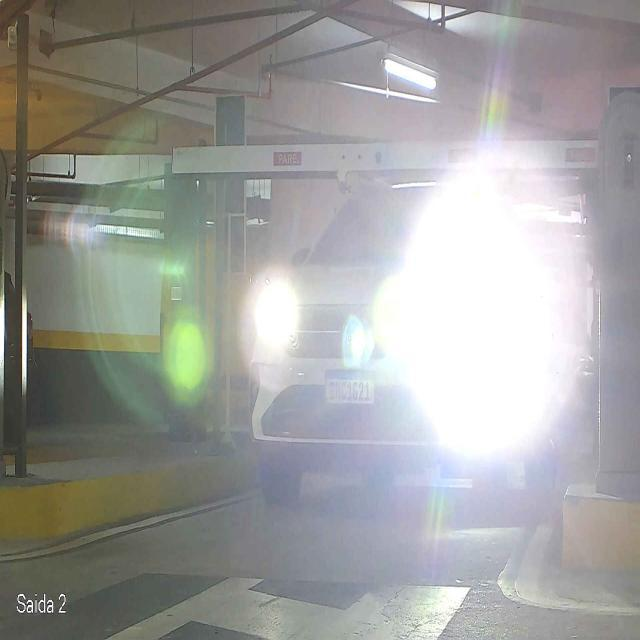mercosul_plate: (323, 368, 376, 406)
